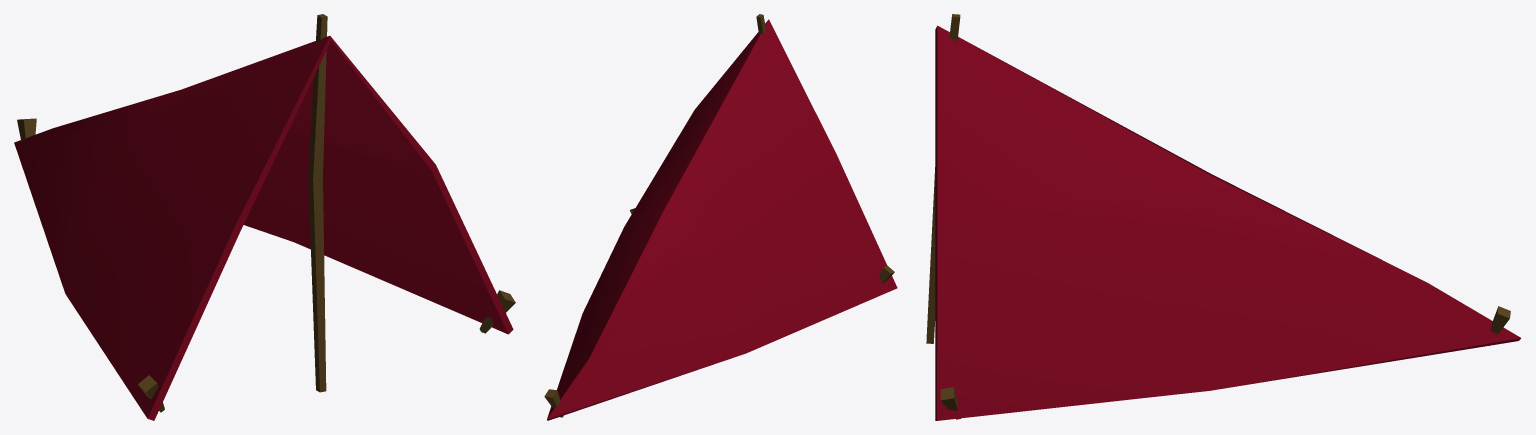
Rendered from tent.fbx.
3 views of the same model, side by side, from view 1: azimuth 30°, elevation 25°; view 2: azimuth 150°, elevation 25°; view 3: azimuth 270°, elevation 25° (orthographic). The views are drawn at different scales.
Visible parts, largest first — view 1: tent, stick; view 2: tent; view 3: tent, stick.
Boxes of the visible parts, bbox=[...] form: tent: bbox=[14, 36, 513, 420]; stick: bbox=[308, 14, 327, 392]; tent: bbox=[547, 19, 897, 420]; tent: bbox=[935, 25, 1520, 420]; stick: bbox=[926, 14, 960, 343].
Size of the model in its own units: 26.26 by 24.4 by 39.36.
